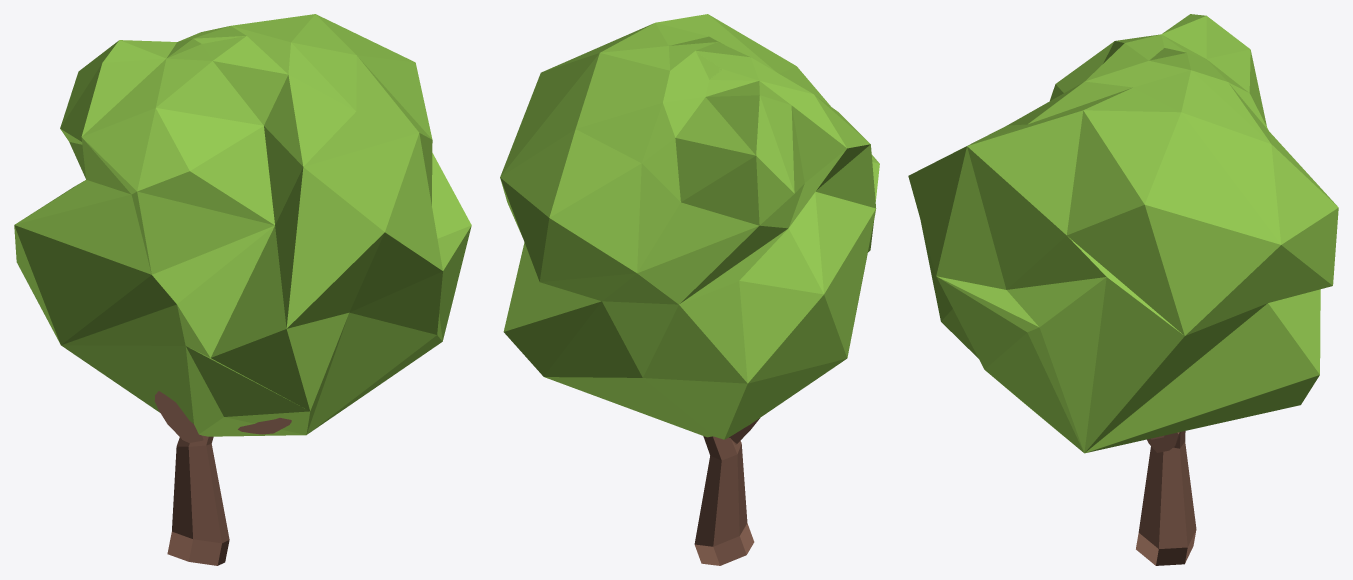
Rendered from tree3.glb.
3 views of the same model, side by side, from view 1: azimuth 30°, elevation 25°; view 2: azimuth 150°, elevation 25°; view 3: azimuth 270°, elevation 25° (orthographic). The views are drawn at different scales.
Parts seen in each view (by area): view 1: Node; view 2: Node; view 3: Node.
Part boxes in pixels (<box>): Node: <box>14,14,471,565</box>; Node: <box>500,14,879,565</box>; Node: <box>908,14,1338,565</box>.
Size of the model in its own units: 7.41 by 10.17 by 7.7.
